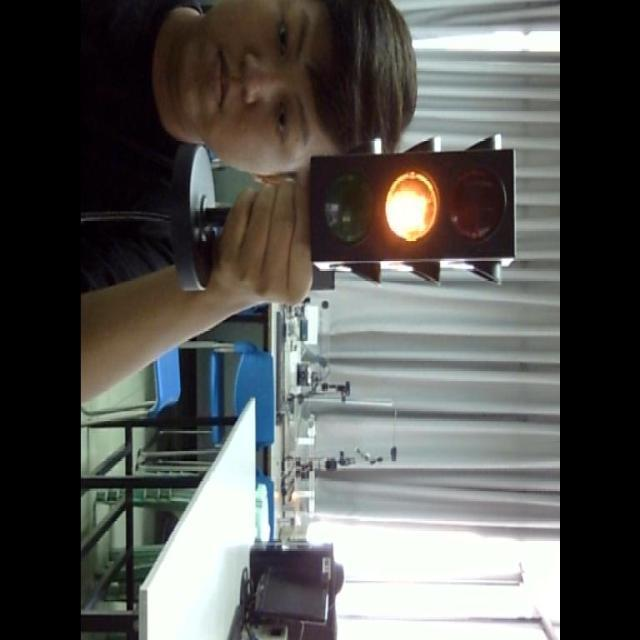yellow_light: (300, 147, 526, 281)
